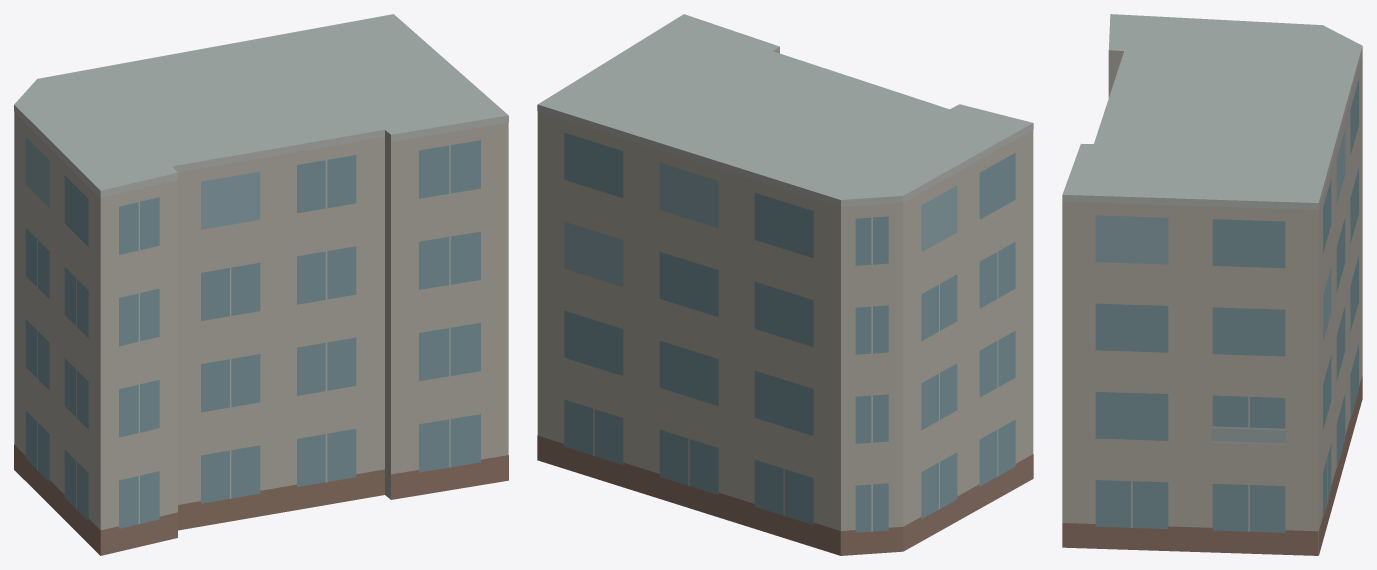
Rendered from survey-upis-32798509.glb.
3 views of the same model, side by side, from view 1: azimuth 30°, elevation 25°; view 2: azimuth 150°, elevation 25°; view 3: azimuth 270°, elevation 25° (orthographic). The views are drawn at different scales.
Parts seen in each view (by area): view 1: survey-upis-32798509.tmp; view 2: survey-upis-32798509.tmp; view 3: survey-upis-32798509.tmp.
Boxes of the visible parts, box(x1,y1,x2,y2) form: survey-upis-32798509.tmp: box(14, 14, 508, 555); survey-upis-32798509.tmp: box(537, 14, 1033, 555); survey-upis-32798509.tmp: box(1062, 14, 1362, 555).
Size of the model in its own units: 14.26 by 12.4 by 9.57.
